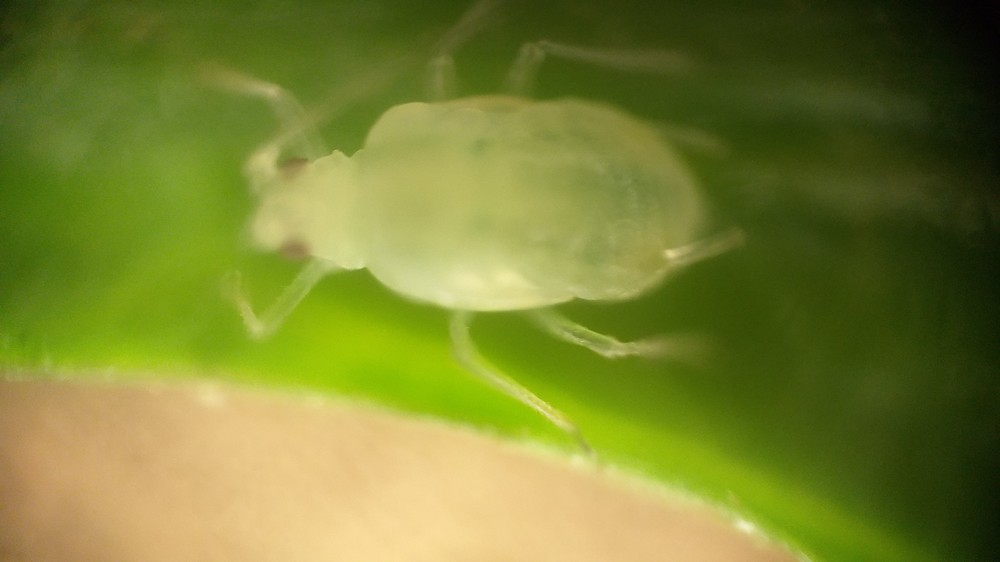Pulgon: (193, 16, 791, 451)
